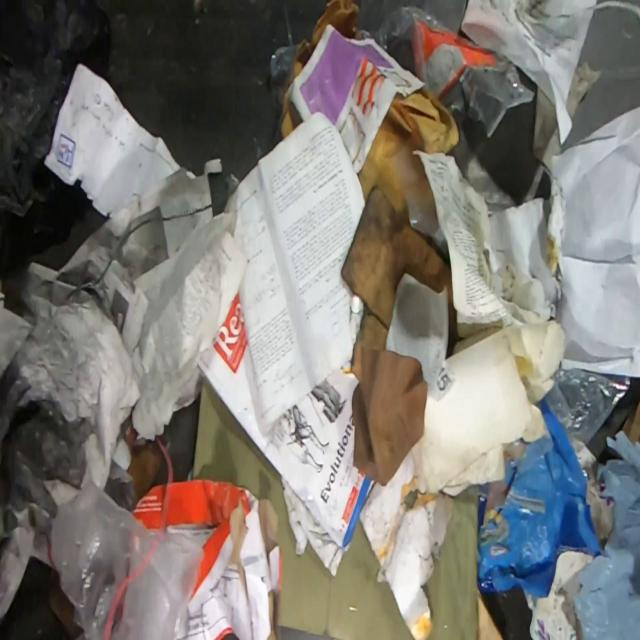cardboard: (193, 374, 479, 639), (340, 187, 459, 488), (131, 476, 278, 640), (356, 87, 458, 226), (279, 0, 361, 143)
rigid_plastic: (368, 2, 540, 140), (270, 2, 294, 84)
soft_plastic: (0, 0, 126, 270), (477, 401, 606, 596), (49, 480, 204, 640), (573, 433, 640, 640), (544, 368, 611, 459)
